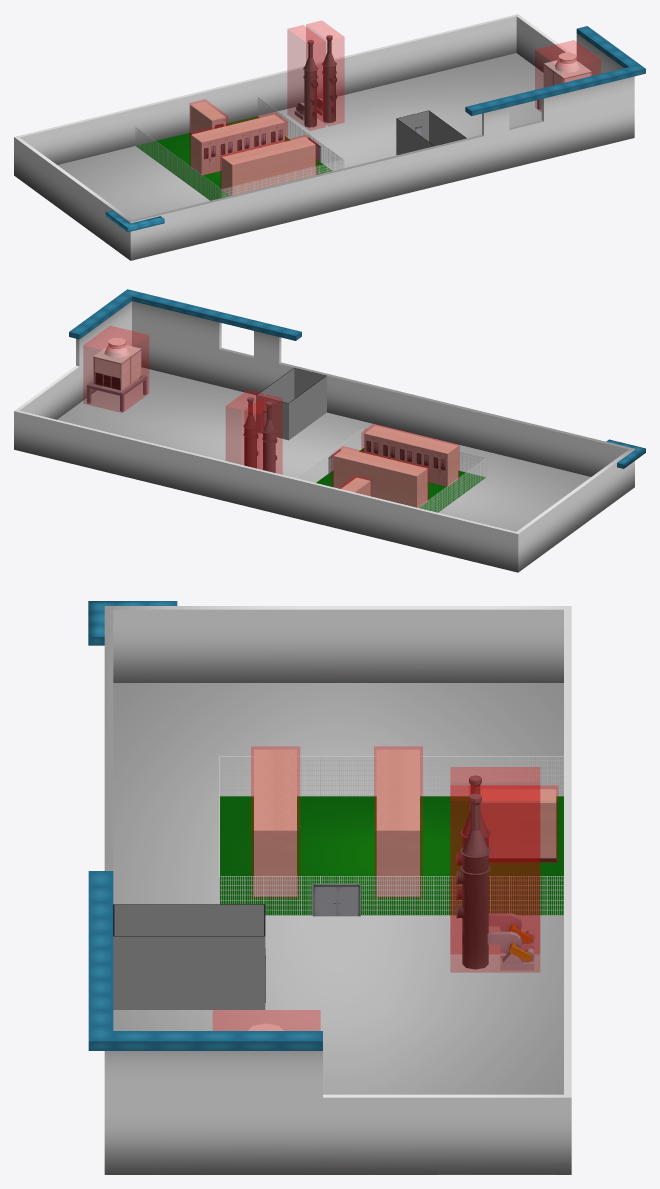
The model's file is soulbrain_T3-1-3F.glb.
3 views of the same model, one above another, from view 1: azimuth 30°, elevation 25°; view 2: azimuth 150°, elevation 25°; view 3: azimuth 270°, elevation 25° (orthographic). The views are drawn at different scales.
Parts seen in each view (by area): view 1: T3-1-3F, equipment-T3-1-3F-003, equipment-T3-1-3F-004, equipment-T3-1-3F-001, equipment-T3-1-3F-005, equipment-T3-1-3F-006, equipment-T3-1-3F-002; view 2: T3-1-3F, equipment-T3-1-3F-006, equipment-T3-1-3F-001, equipment-T3-1-3F-003, equipment-T3-1-3F-004, equipment-T3-1-3F-005, equipment-T3-1-3F-002; view 3: T3-1-3F, equipment-T3-1-3F-005, equipment-T3-1-3F-004, equipment-T3-1-3F-003, equipment-T3-1-3F-001, equipment-T3-1-3F-006, equipment-T3-1-3F-002.
Boxes of the visible parts, bbox=[...] form: T3-1-3F: bbox=[14, 14, 645, 260]; equipment-T3-1-3F-003: bbox=[220, 135, 318, 195]; equipment-T3-1-3F-004: bbox=[287, 25, 325, 130]; equipment-T3-1-3F-001: bbox=[189, 112, 287, 175]; equipment-T3-1-3F-005: bbox=[306, 21, 344, 125]; equipment-T3-1-3F-006: bbox=[535, 40, 600, 111]; equipment-T3-1-3F-002: bbox=[189, 99, 227, 134]; T3-1-3F: bbox=[14, 289, 645, 572]; equipment-T3-1-3F-006: bbox=[83, 326, 148, 412]; equipment-T3-1-3F-001: bbox=[331, 446, 428, 507]; equipment-T3-1-3F-003: bbox=[361, 424, 459, 486]; equipment-T3-1-3F-004: bbox=[244, 394, 282, 474]; equipment-T3-1-3F-005: bbox=[226, 390, 263, 469]; equipment-T3-1-3F-002: bbox=[338, 475, 371, 495]; T3-1-3F: bbox=[88, 601, 571, 1174]; equipment-T3-1-3F-005: bbox=[450, 785, 539, 972]; equipment-T3-1-3F-004: bbox=[450, 767, 539, 953]; equipment-T3-1-3F-003: bbox=[251, 746, 299, 898]; equipment-T3-1-3F-001: bbox=[374, 746, 422, 898]; equipment-T3-1-3F-006: bbox=[213, 1010, 320, 1030]; equipment-T3-1-3F-002: bbox=[540, 785, 558, 862].
Bounding box in the file's own units: 63.34 × 10.23 × 25.56.
19 materials, 17 textured.
